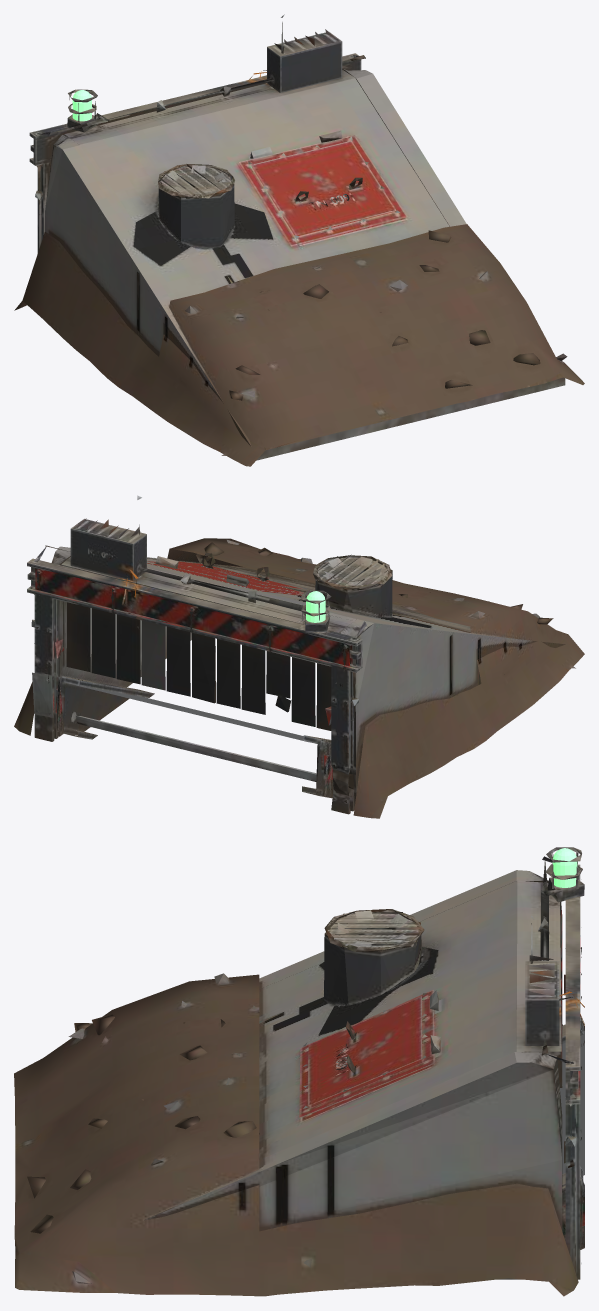
Rendered from esteira_tunel_saida_rapida.glb.
3 views of the same model, one above another, from view 1: azimuth 30°, elevation 25°; view 2: azimuth 150°, elevation 25°; view 3: azimuth 270°, elevation 25° (orthographic). The views are drawn at different scales.
Parts seen in each view (by area): view 1: esteira_tunel_saida_rapida_corpo; view 2: esteira_tunel_saida_rapida_corpo; view 3: esteira_tunel_saida_rapida_corpo.
Part boxes in pixels (<box>): esteira_tunel_saida_rapida_corpo: <box>14,14,584,466</box>; esteira_tunel_saida_rapida_corpo: <box>14,495,584,818</box>; esteira_tunel_saida_rapida_corpo: <box>14,847,584,1296</box>.
Bounding box in the file's own units: 0.9416 × 0.6061 × 1.
4 materials, 1 textured.
